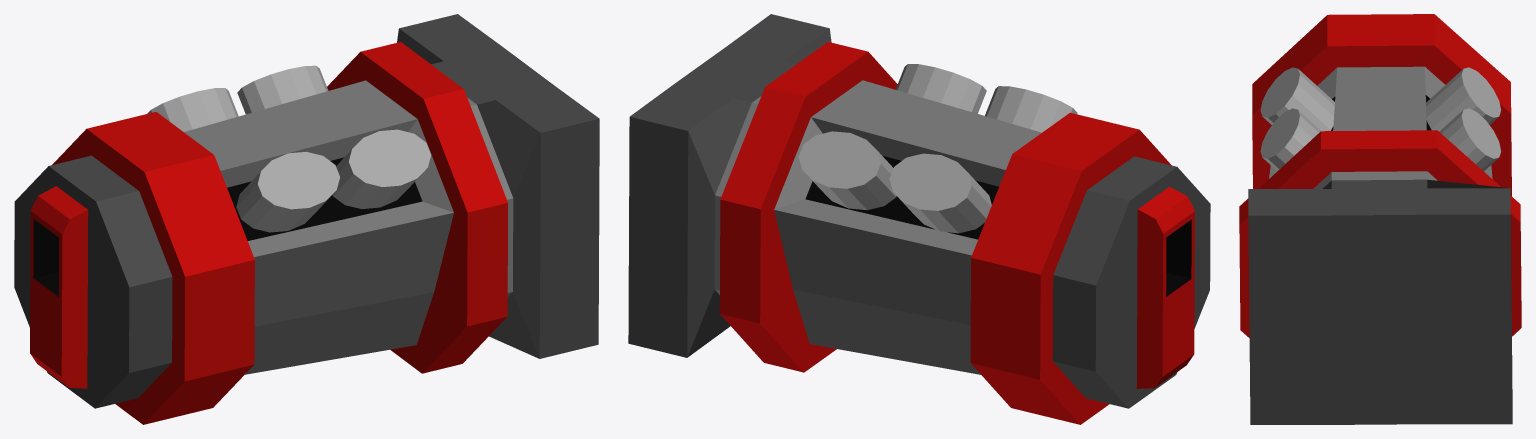
File: Motor.fbx
The picture shows the model from 3 angles, left to right: view 1: azimuth 30°, elevation 25°; view 2: azimuth 150°, elevation 25°; view 3: azimuth 270°, elevation 25°; orthographic projection. The views are drawn at different scales.
Parts seen in each view (by area): view 1: motor; view 2: motor; view 3: motor.
Boxes of the visible parts, x1=… form: motor: x1=14, y1=14, x2=599, y2=424; motor: x1=628, y1=14, x2=1210, y2=424; motor: x1=1239, y1=14, x2=1521, y2=424.
Size of the model in its own units: 412 by 227 by 227.
